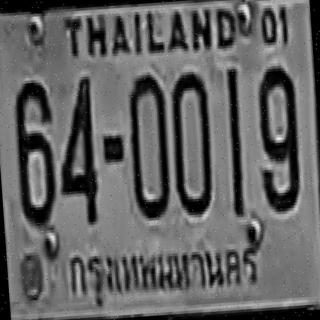N00: (167, 68, 215, 216), (126, 72, 172, 218)
N01: (223, 64, 246, 216)
N04: (53, 74, 99, 224)
N06: (10, 78, 58, 226)
N09: (253, 62, 302, 210)
P04: (62, 227, 266, 315)
